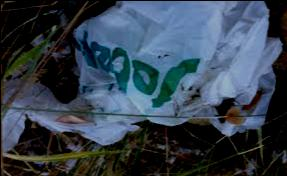Plastic: (74, 1, 271, 126), (1, 55, 152, 159)
